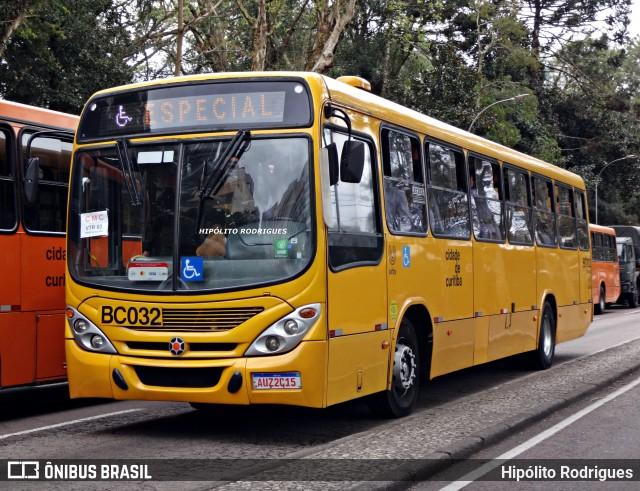ESPECIAL: (138, 89, 279, 131)
